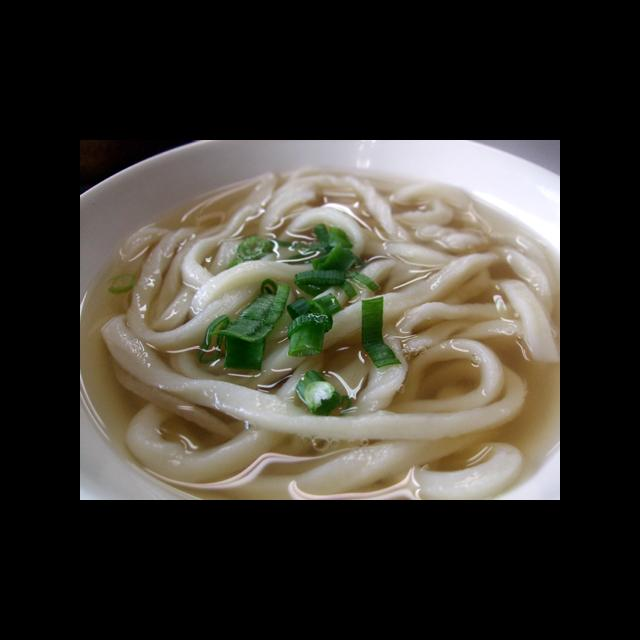noodles: (104, 165, 560, 500)
